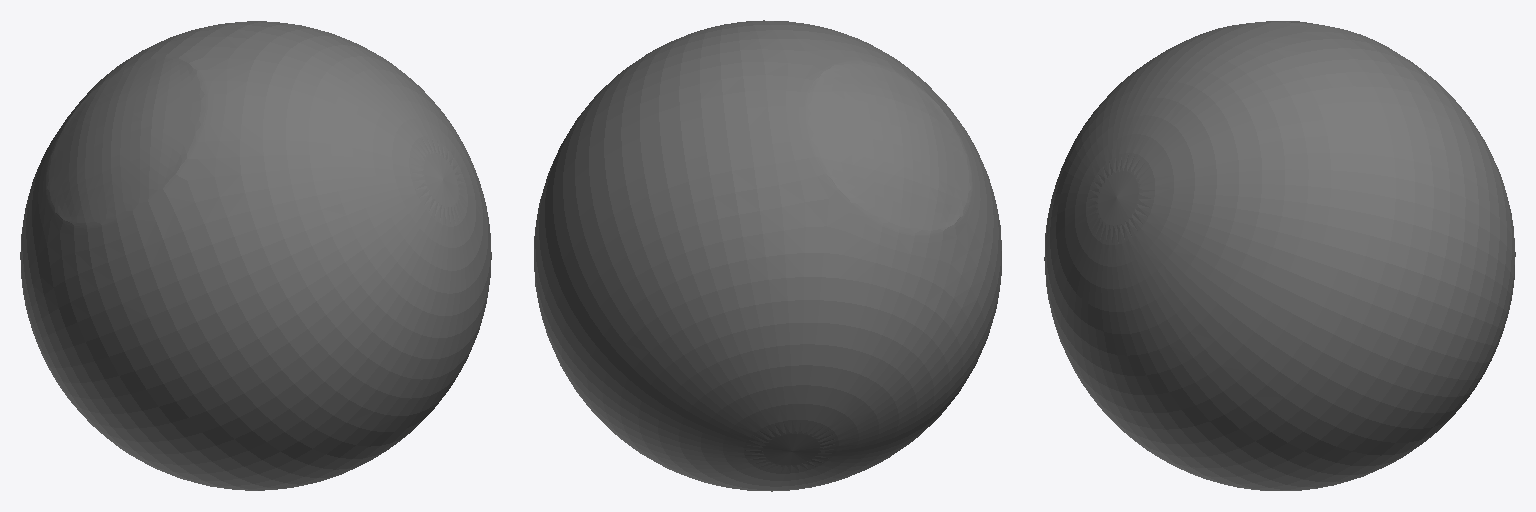
robot.urdf — 10_ball:
<?xml version="1.0"?>
<robot name="10_ball">
  <link name="base">
    <visual>
      <geometry>
        <mesh filename="10_ball.obj" scale="1 1 1"/>
      </geometry>
      <material name="gray">
        <color rgba="0.5 0.5 0.5 1.0"/>
      </material>
    </visual>
    <collision>
      <geometry>
        <mesh filename="10_ball.obj" scale="1 1 1"/>
      </geometry>
    </collision>
    <inertial>
      <mass value="1.000"/>
      <inertia
          ixx="0.001031" ixy="0.000000" ixz="0.000000"
          iyy="0.001029" iyz="0.000000"
          izz="0.001032"/>
      <origin xyz="0.054497 0.038368 0.833077" rpy="0 0 0"/>
    </inertial>
  </link>
</robot>

--- Facts derived from the render (not from the file) ---
3 views of the same robot in one strip: view 1: azimuth 30°, elevation 25°; view 2: azimuth 150°, elevation 25°; view 3: azimuth 270°, elevation 25° (orthographic).
Robot: 10_ball — 1 links, 0 joints (none); root link base; default pose: all joints at 0.
Links seen in each view (by area): view 1: base; view 2: base; view 3: base.
Link boxes in pixels (x1,y1,x2,y2): base: (20,21,491,490); base: (534,20,1001,491); base: (1044,21,1515,490).
Bounding box of the posed robot: 0.0786 × 0.0788 × 0.0785 m (x, y, z).
Meshes: 1 distinct files referenced, 1 mesh visuals loaded (1 OBJ).
